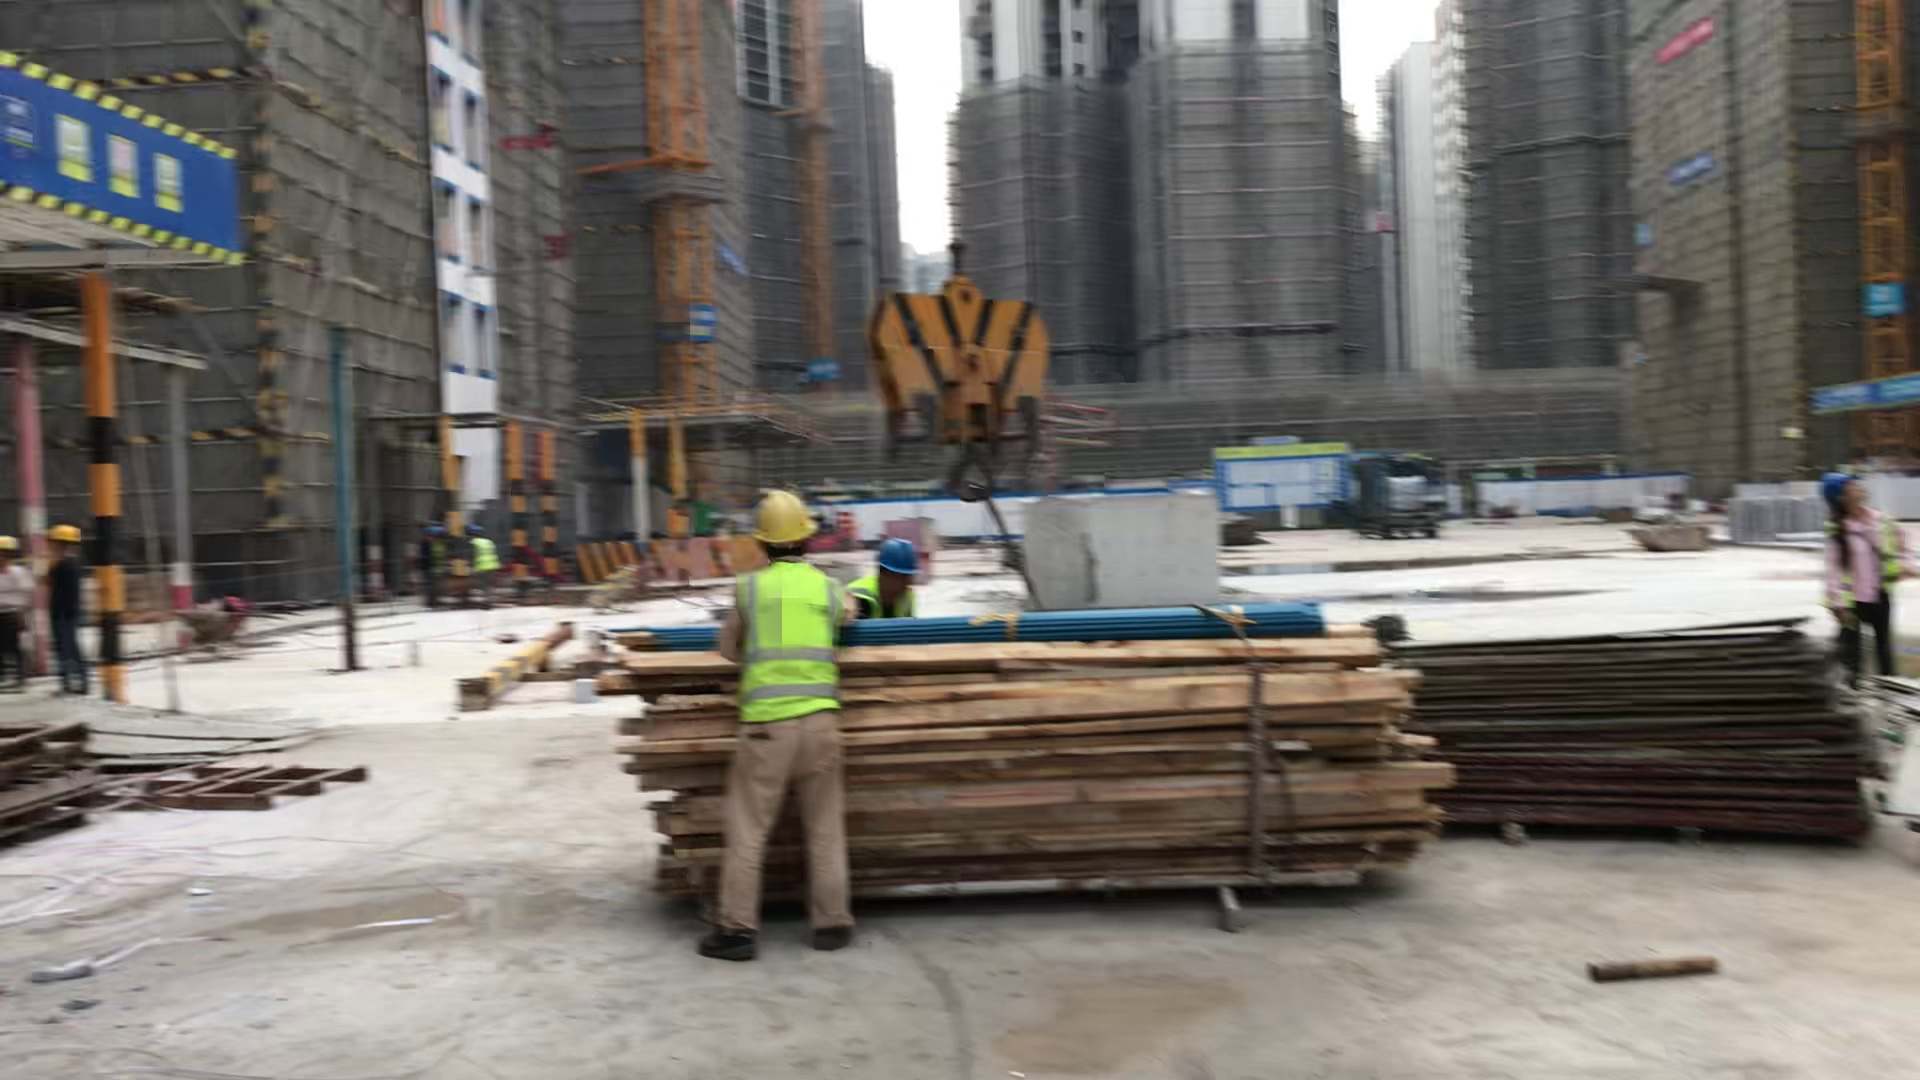board: (1404, 628, 1892, 878)
handcart: (172, 589, 283, 656)
helmet: (743, 490, 821, 558), (872, 527, 926, 599), (1821, 466, 1862, 511), (41, 523, 94, 554)
hook: (870, 243, 1049, 499)
hopper: (1615, 520, 1724, 551)
person: (710, 487, 854, 972), (1812, 462, 1917, 678), (31, 513, 97, 707), (855, 530, 925, 623), (454, 516, 507, 613), (1, 525, 32, 692)
slogan: (3, 84, 189, 221), (1804, 371, 1920, 416), (1649, 14, 1713, 72), (1856, 273, 1907, 322), (1663, 145, 1717, 189), (678, 301, 721, 347), (803, 357, 840, 384)
vest: (734, 568, 841, 716), (849, 576, 917, 622), (470, 537, 501, 582)
wood: (625, 633, 1420, 916)
